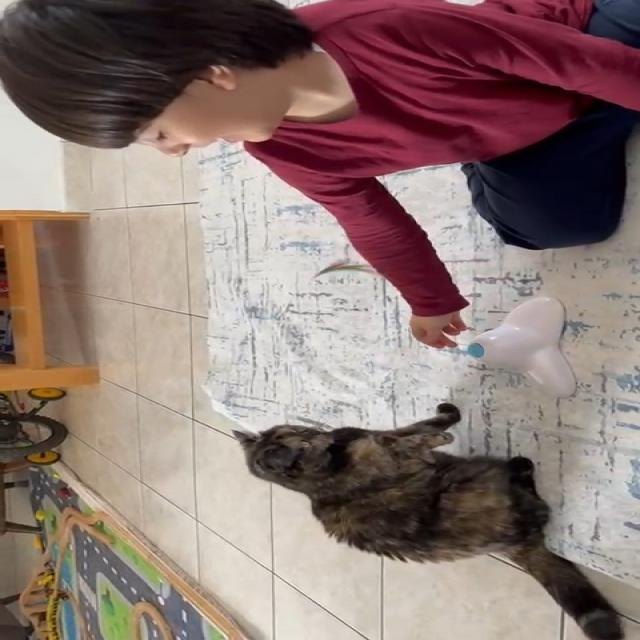authorized: (231, 402, 625, 640)
